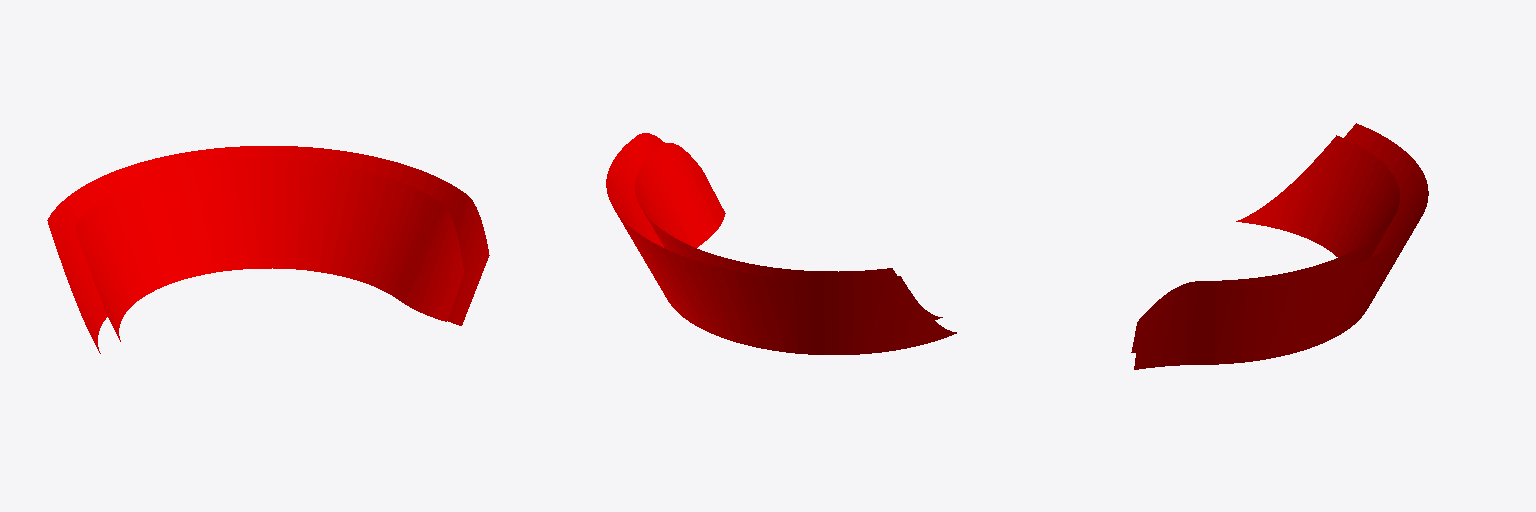
3 renders of one model, left to right at view 1: azimuth 30°, elevation 25°; view 2: azimuth 150°, elevation 25°; view 3: azimuth 270°, elevation 25°, orthographic.
Parts seen in each view (by area): view 1: Levier-De-Platine.008; view 2: Levier-De-Platine.008; view 3: Levier-De-Platine.008.
Boxes of the visible parts, x1=… form: Levier-De-Platine.008: x1=47, y1=146, x2=489, y2=353; Levier-De-Platine.008: x1=606, y1=133, x2=956, y2=354; Levier-De-Platine.008: x1=1131, y1=123, x2=1428, y2=369.
Size of the model in its own units: 2.34 by 0.647 by 1.76.